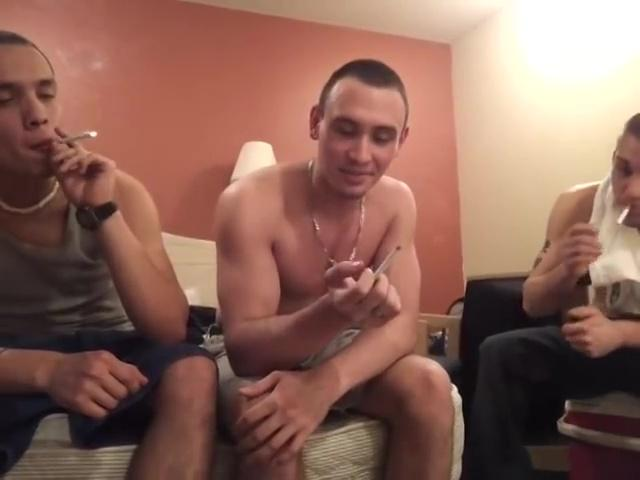cigarette: (371, 243, 406, 281), (54, 129, 103, 141), (614, 202, 635, 230)
